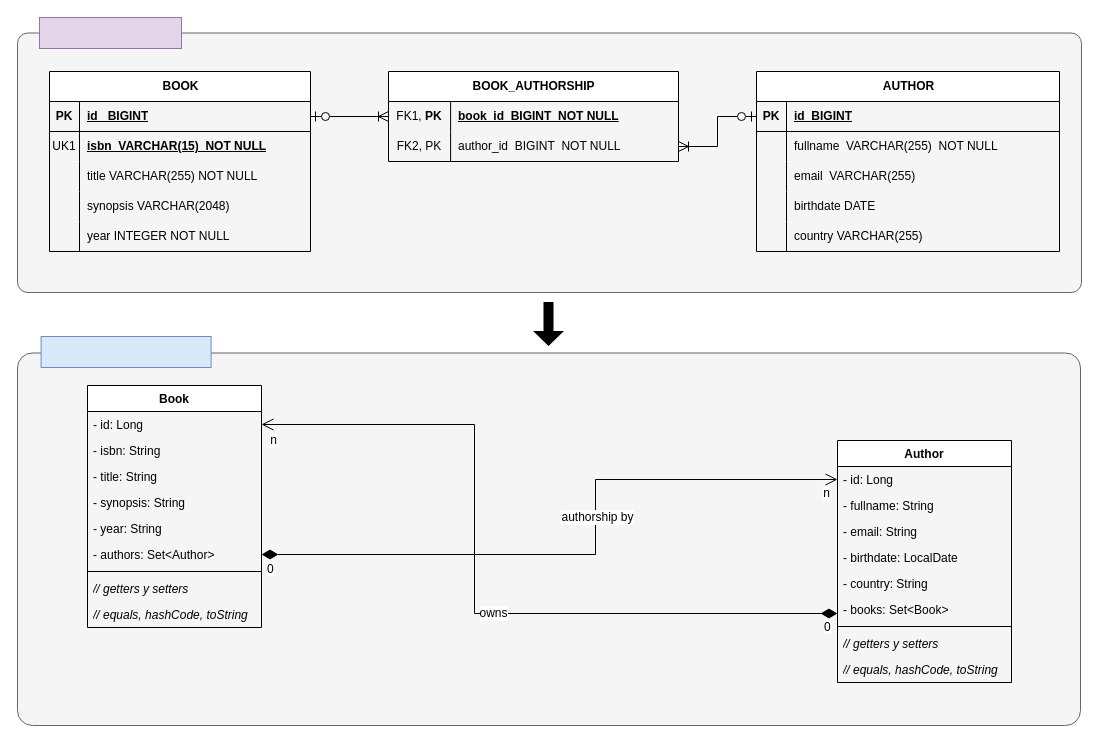
This 1099x743 diagram has some shape labels left out. The centre of each missing label's shape, as x and y in pixels:
Diagrama DDBB: the point at 110,32
Diagrama de Clases: the point at 125,352
